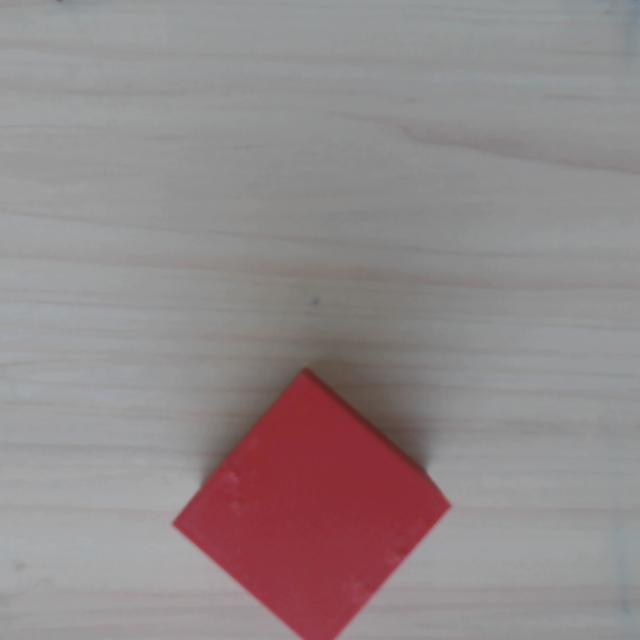Kubus-Merah-505050: (169, 366, 458, 640)
